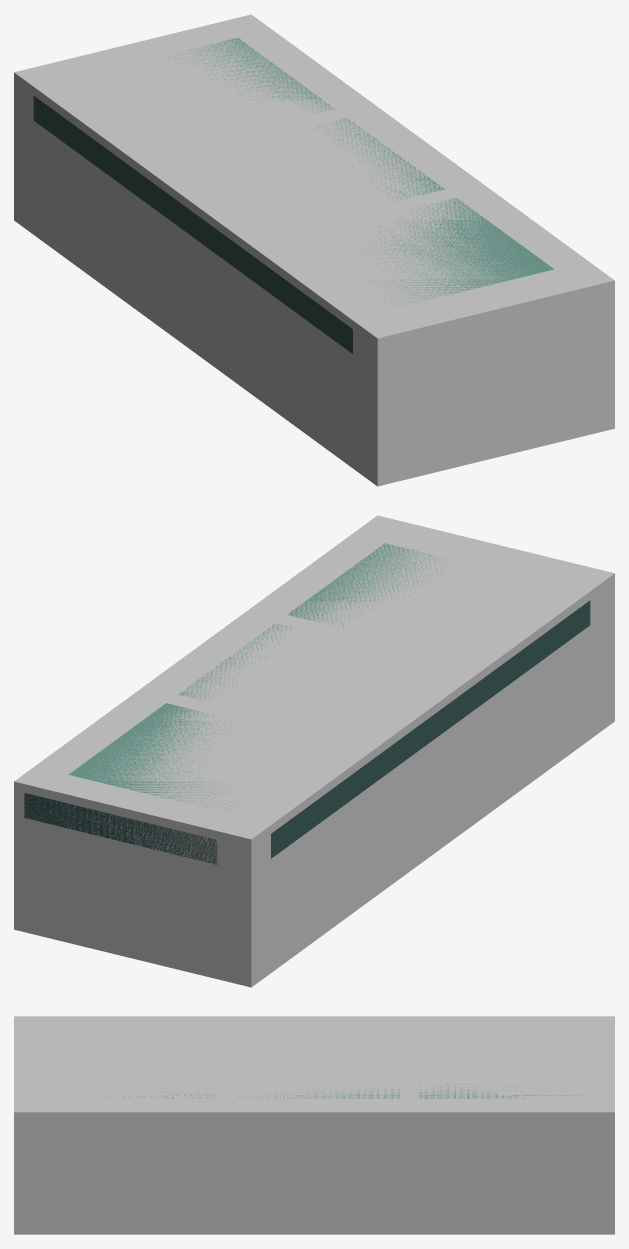
File: SM_Bench_01.fbx
3 views of the same model, one above another, from view 1: azimuth 30°, elevation 25°; view 2: azimuth 150°, elevation 25°; view 3: azimuth 270°, elevation 25° (orthographic). The views are drawn at different scales.
Visible parts, largest first — view 1: SM_Bench_01_ConvexHulls, SM_Bench_01; view 2: SM_Bench_01_ConvexHulls, SM_Bench_01; view 3: SM_Bench_01_ConvexHulls, SM_Bench_01.
Part boxes in pixels (x1,y1,x2,y2): SM_Bench_01_ConvexHulls: [14, 14, 614, 486]; SM_Bench_01: [33, 38, 554, 353]; SM_Bench_01_ConvexHulls: [14, 515, 614, 987]; SM_Bench_01: [24, 543, 590, 864]; SM_Bench_01_ConvexHulls: [14, 1016, 614, 1234]; SM_Bench_01: [73, 1084, 580, 1098].
Size of the model in its own units: 108 by 288 by 64.66.
